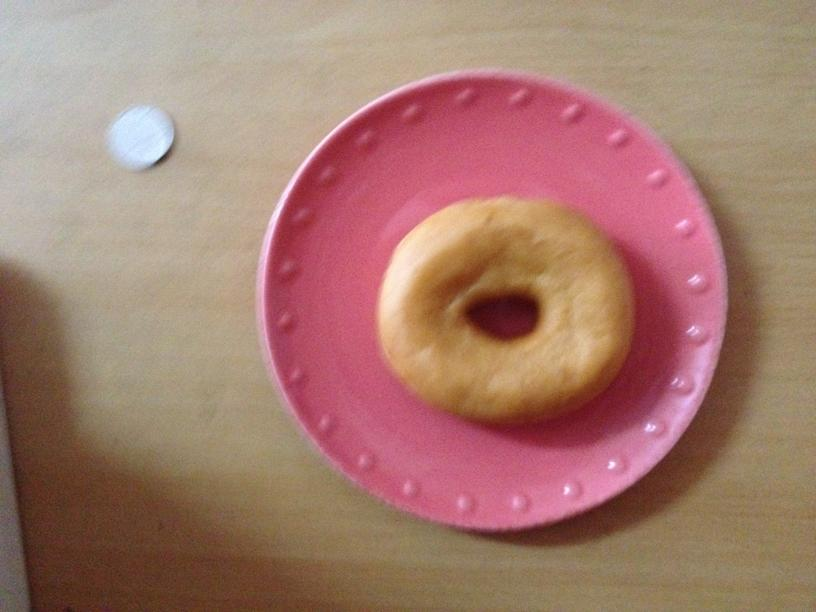coin: (109, 105, 174, 159)
doughnut: (373, 196, 632, 422)
